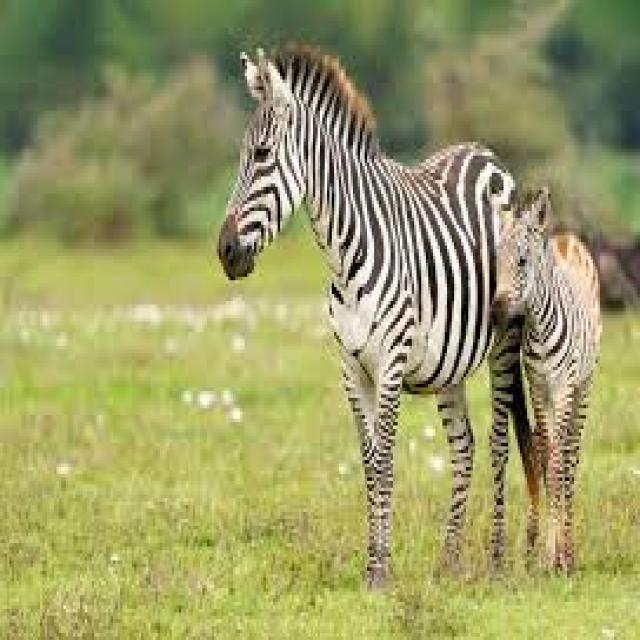Herbivorous: (216, 42, 536, 592), (492, 190, 602, 578)
